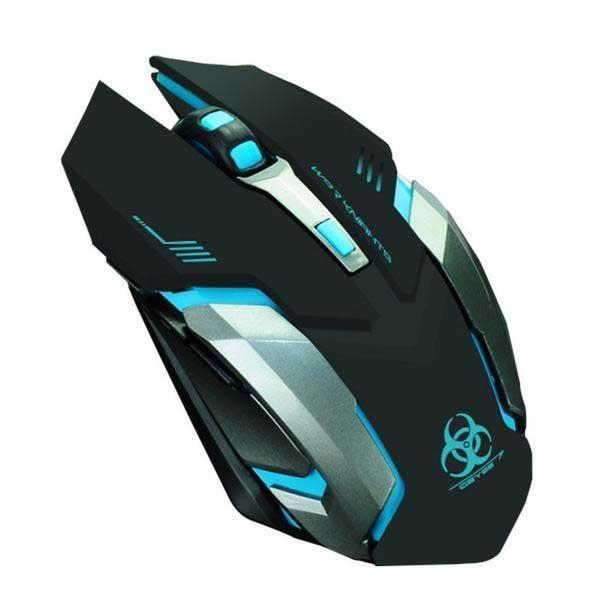Mouse: (53, 49, 544, 585)
